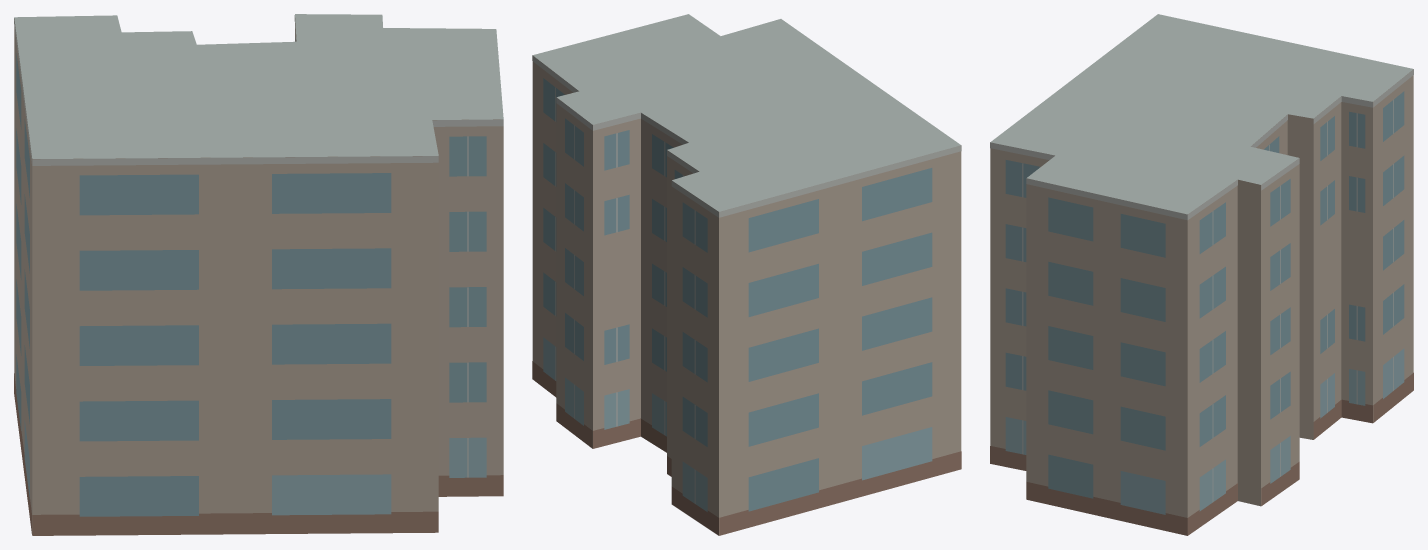
The model's file is survey-upis-32689665.glb.
3 views of the same model, side by side, from view 1: azimuth 30°, elevation 25°; view 2: azimuth 150°, elevation 25°; view 3: azimuth 270°, elevation 25° (orthographic). The views are drawn at different scales.
Parts seen in each view (by area): view 1: survey-upis-32689665.tmp; view 2: survey-upis-32689665.tmp; view 3: survey-upis-32689665.tmp.
Boxes of the visible parts, bbox=[...] form: survey-upis-32689665.tmp: bbox=[14, 14, 503, 535]; survey-upis-32689665.tmp: bbox=[532, 14, 961, 535]; survey-upis-32689665.tmp: bbox=[990, 14, 1413, 535].
Bounding box in the file's own units: 17.93 × 13.4 × 16.02.
